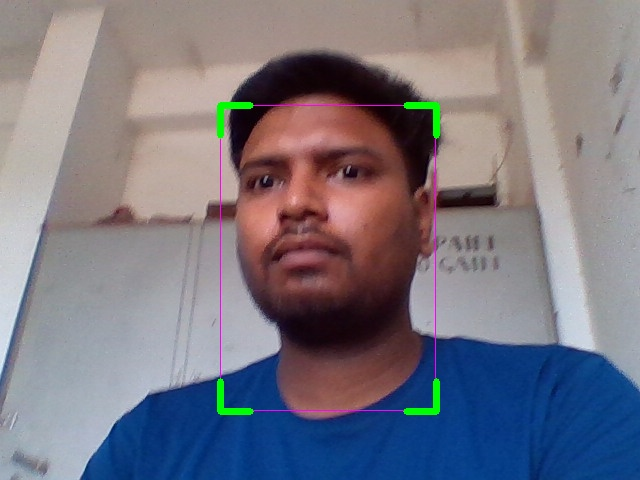real: (220, 105, 436, 411)
